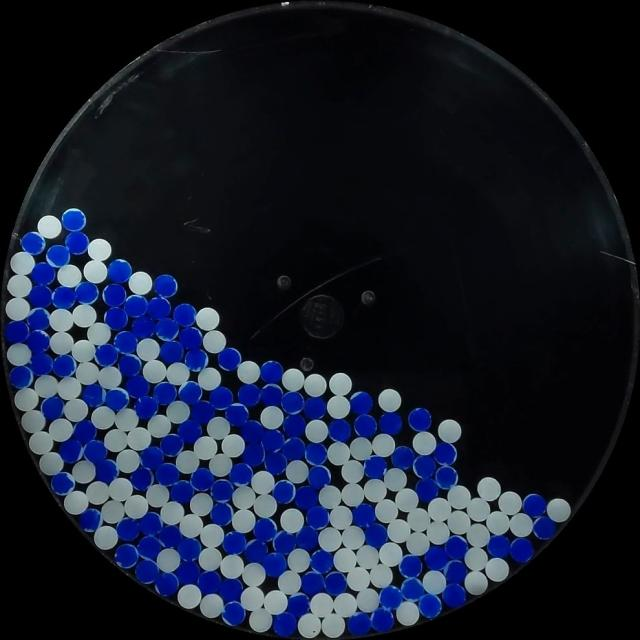pmmma-blanca: (486, 507, 514, 537), (464, 521, 492, 549), (426, 517, 451, 547), (353, 584, 379, 612), (176, 583, 202, 610), (342, 483, 370, 508), (395, 486, 421, 512), (342, 563, 368, 589), (156, 499, 183, 524), (230, 507, 256, 532), (240, 562, 266, 587), (108, 477, 134, 502), (463, 546, 488, 572), (28, 430, 54, 455), (75, 361, 101, 386), (240, 586, 265, 612), (199, 593, 224, 619), (484, 556, 509, 582), (38, 451, 64, 476), (6, 274, 32, 299), (405, 507, 431, 532), (354, 542, 380, 567), (219, 556, 246, 580), (126, 426, 151, 451), (508, 512, 533, 537), (14, 387, 39, 412), (86, 480, 111, 505), (332, 592, 357, 617), (93, 525, 118, 550), (208, 452, 233, 477), (100, 499, 125, 524), (154, 547, 179, 572), (395, 600, 419, 626), (56, 376, 82, 400), (49, 330, 75, 354), (48, 418, 74, 442), (63, 490, 89, 514), (297, 612, 321, 638), (20, 409, 46, 433), (86, 322, 112, 346), (6, 342, 32, 366), (5, 297, 31, 321), (9, 252, 35, 276), (286, 459, 312, 483), (384, 467, 410, 491), (374, 497, 400, 521), (328, 505, 354, 529), (340, 524, 364, 550), (179, 514, 204, 538), (378, 542, 403, 566), (263, 590, 288, 614), (199, 524, 224, 548), (340, 459, 364, 484), (197, 367, 222, 391), (309, 592, 334, 616), (49, 308, 74, 332), (320, 612, 344, 637), (368, 563, 392, 588), (72, 304, 97, 328), (466, 497, 490, 522), (463, 570, 488, 594), (222, 433, 246, 458), (195, 307, 220, 331), (206, 416, 231, 440), (546, 497, 570, 522), (497, 491, 522, 515), (128, 271, 153, 295), (71, 339, 96, 363), (188, 491, 213, 515), (56, 264, 82, 287), (426, 499, 453, 521), (251, 470, 275, 494), (277, 570, 301, 594), (116, 449, 140, 473), (260, 405, 284, 429), (64, 398, 88, 422), (194, 436, 218, 460), (280, 508, 304, 532), (422, 570, 446, 594), (412, 431, 436, 455), (477, 477, 501, 501), (34, 374, 58, 398), (72, 460, 96, 484), (123, 496, 147, 520), (372, 433, 396, 457), (448, 509, 472, 533), (287, 548, 311, 572), (91, 406, 116, 429), (326, 395, 351, 418), (104, 428, 129, 451), (87, 238, 112, 261), (83, 260, 108, 283), (37, 215, 62, 238), (198, 546, 221, 571), (318, 528, 343, 551), (406, 532, 432, 554), (305, 419, 328, 443), (166, 401, 190, 424), (249, 608, 272, 632), (349, 436, 372, 460), (237, 360, 260, 384), (303, 374, 327, 397), (378, 388, 402, 411), (437, 419, 461, 442), (98, 366, 122, 389), (176, 451, 199, 475), (254, 495, 278, 518), (318, 486, 342, 509), (448, 484, 470, 509), (328, 373, 351, 396), (143, 360, 167, 382), (136, 339, 160, 361), (166, 362, 190, 384), (202, 330, 226, 352), (148, 415, 172, 437), (233, 486, 255, 510), (363, 479, 387, 501), (282, 368, 304, 391), (388, 517, 409, 541), (328, 442, 350, 464), (334, 550, 356, 572), (117, 408, 138, 431), (146, 484, 167, 506)
